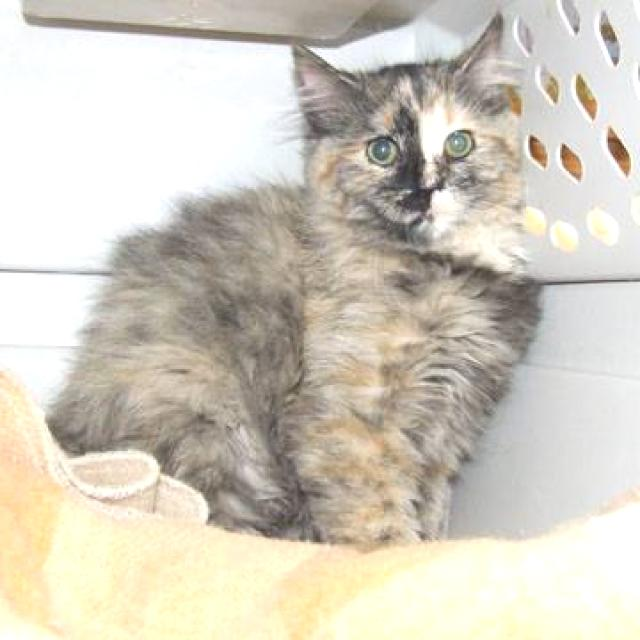Kucing: (18, 0, 582, 594)
